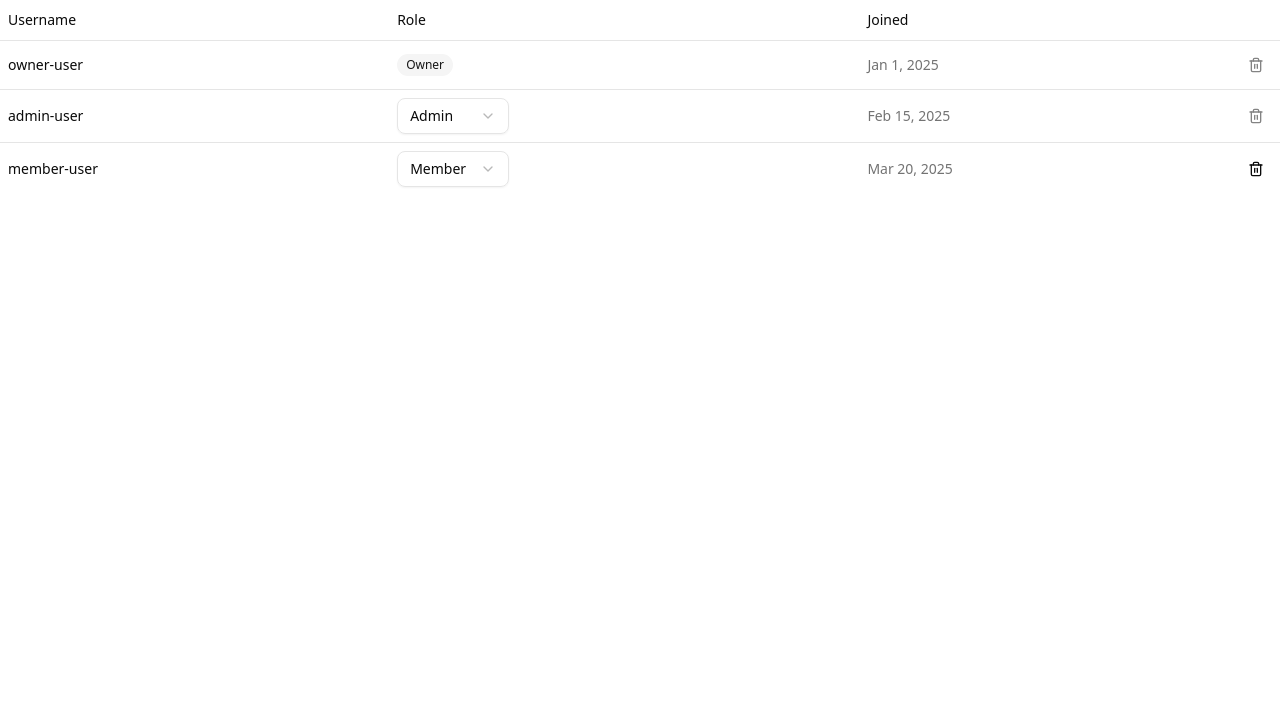
Scenario: MembersTable › should show confirmation dialog when remove button is clicked
The image size is (1280, 720).
Click the button named "Remove member-user" at (1256, 168), box [1240,152,1272,184]
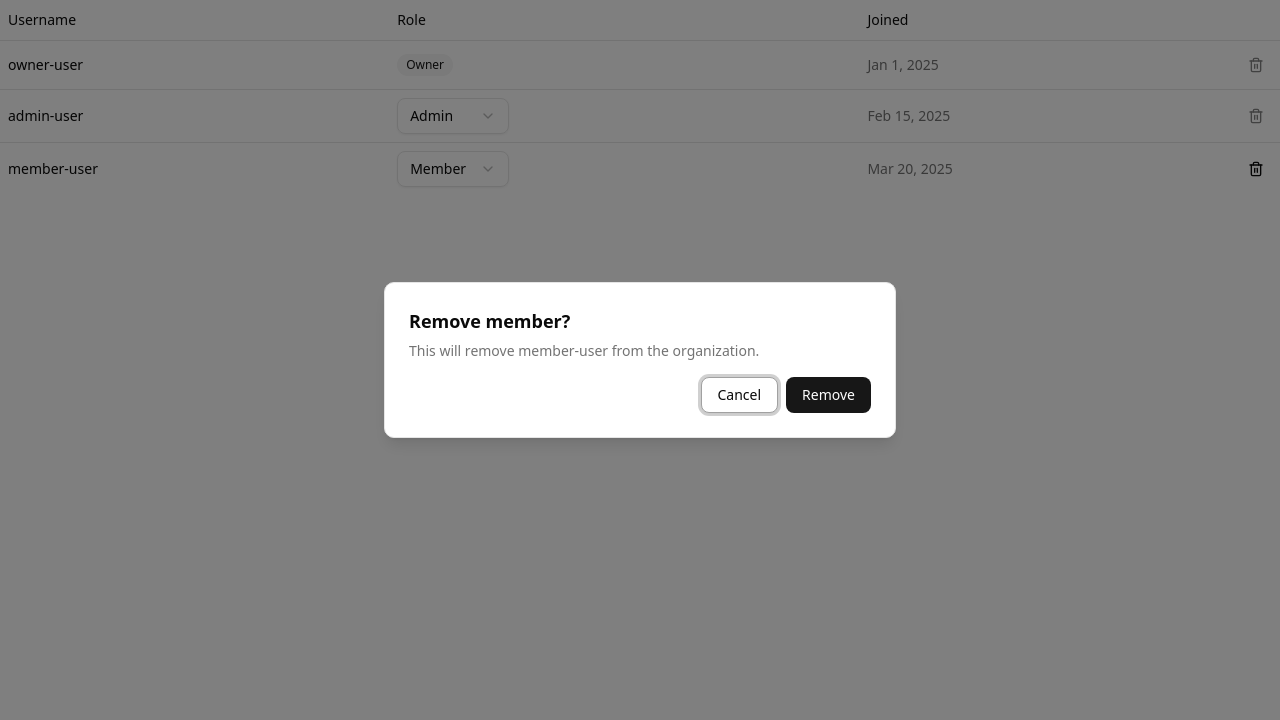
Expected: the heading "Remove member?" is shown, [409,307,570,335]
Expected: the text "This will remove member-user from the organization." is shown, [409,341,759,361]
